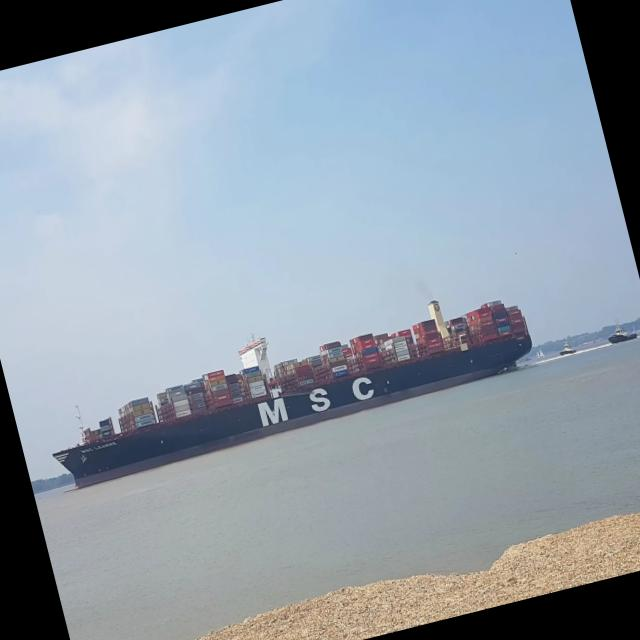Cargo: (53, 300, 531, 487)
Tug: (608, 328, 637, 343), (559, 341, 576, 355)
